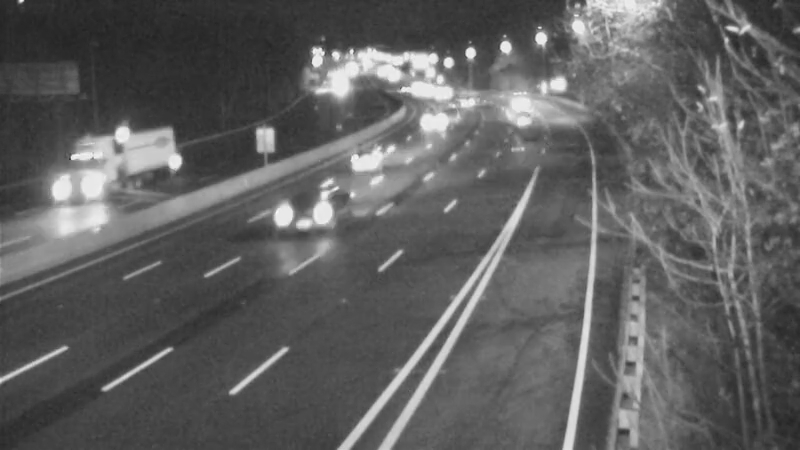vehicle: (335, 119, 415, 199), (280, 172, 360, 252), (62, 145, 142, 225), (418, 69, 468, 119), (440, 77, 490, 127), (492, 83, 542, 133), (411, 96, 461, 146)
